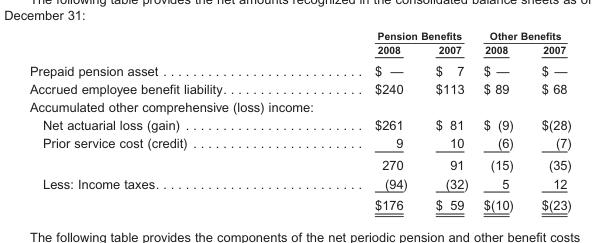table: (28, 29, 570, 212)
table column: (28, 29, 299, 212), (299, 29, 420, 212), (420, 29, 475, 212), (475, 29, 526, 212), (526, 29, 570, 212)
table column header: (28, 29, 570, 59)
table projected row header: (28, 97, 570, 115)
table row: (28, 59, 570, 79), (28, 133, 570, 153), (28, 153, 570, 173), (28, 173, 570, 193), (28, 193, 570, 212), (28, 79, 570, 97), (28, 97, 570, 115), (28, 115, 570, 133), (28, 42, 570, 59), (28, 29, 570, 42)
table spanning cell: (299, 29, 475, 42), (475, 29, 570, 42)
